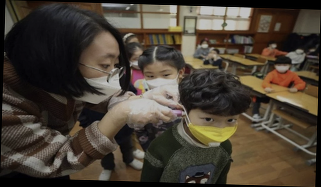with_mask: (77, 50, 123, 106), (183, 107, 239, 148), (141, 65, 180, 92), (128, 52, 143, 71), (274, 61, 292, 75), (295, 47, 305, 56), (201, 42, 209, 50), (271, 43, 278, 50)
